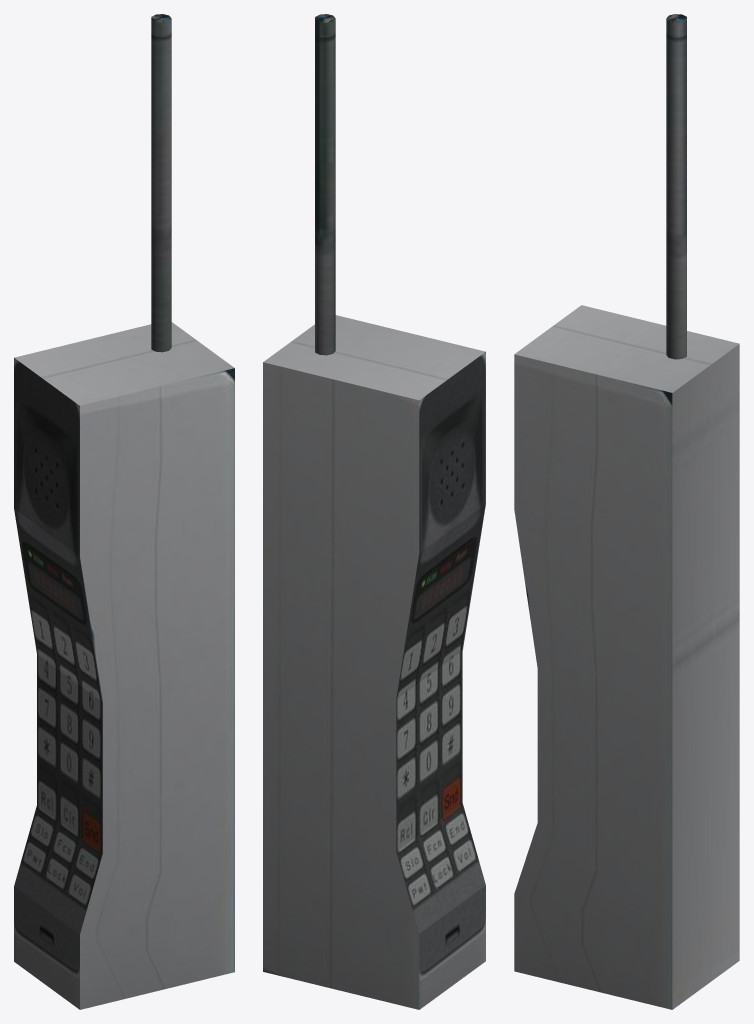
Rendered from brickPhone.fbx.
The picture shows the model from 3 angles, left to right: view 1: azimuth 30°, elevation 25°; view 2: azimuth 150°, elevation 25°; view 3: azimuth 330°, elevation 25°; orthographic projection. The views are drawn at different scales.
Visible parts, largest first — view 1: Cube.026, Cylinder; view 2: Cube.026, Cylinder; view 3: Cube.026, Cylinder.
Part boxes in pixels (x1=…): Cube.026: x1=14, y1=322, x2=234, y2=1009; Cylinder: x1=151, y1=14, x2=171, y2=352; Cube.026: x1=263, y1=315, x2=485, y2=1009; Cylinder: x1=315, y1=14, x2=335, y2=355; Cube.026: x1=514, y1=305, x2=739, y2=1009; Cylinder: x1=666, y1=14, x2=686, y2=359.
Bounding box in the file's own units: 92.86 × 535 × 68.44.
